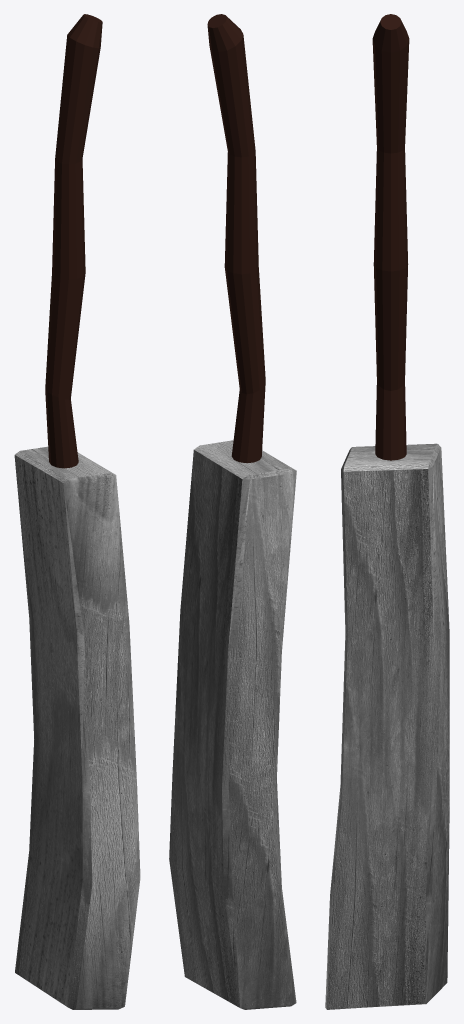
File: Paddle.fbx
3 renders of one model, left to right at view 1: azimuth 30°, elevation 25°; view 2: azimuth 210°, elevation 25°; view 3: azimuth 270°, elevation 25°, orthographic. The views are drawn at different scales.
Parts seen in each view (by area): view 1: Sphere.011; view 2: Sphere.011; view 3: Sphere.011.
Boxes of the visible parts, x1=… form: Sphere.011: x1=14, y1=14, x2=140, y2=1009; Sphere.011: x1=169, y1=14, x2=296, y2=1009; Sphere.011: x1=325, y1=14, x2=449, y2=1009.
Size of the model in its own units: 37.77 by 52.86 by 466.
Materials: 2 (1 with a texture image).
